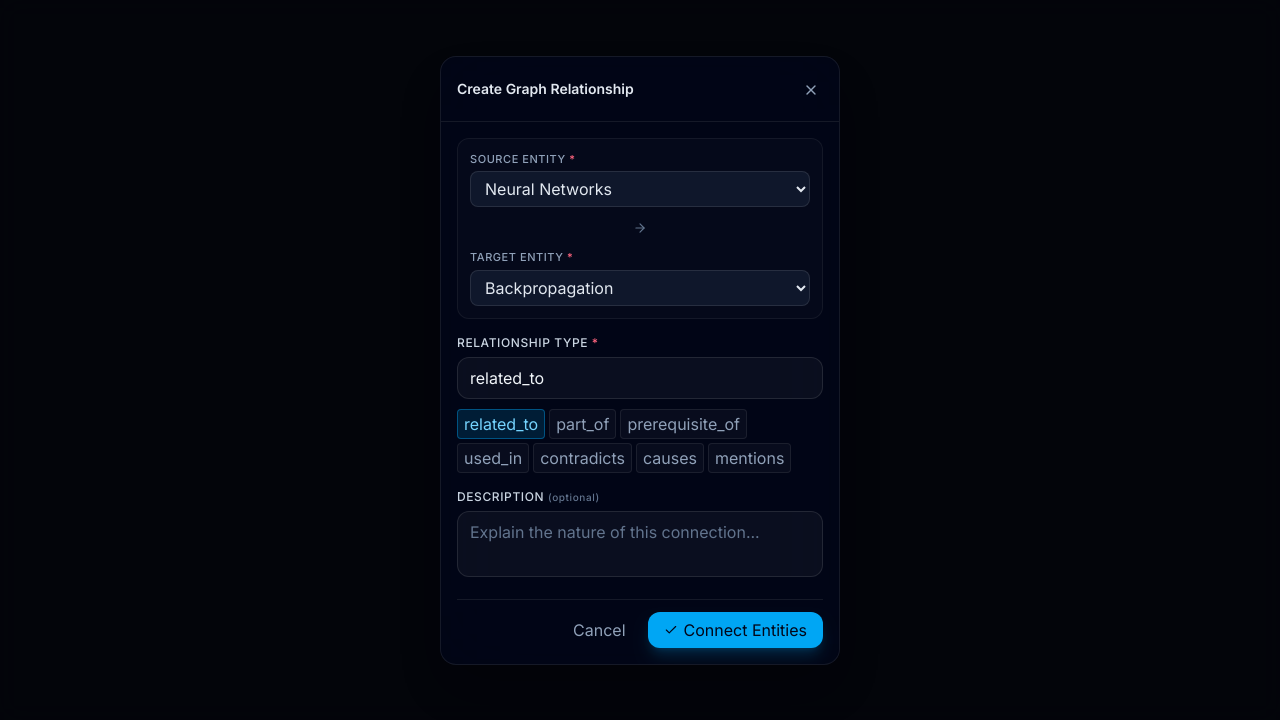
Test case: EntityEditor & RelationshipEditor & GraphEditToolbar (§5.7, §14.2) › RelationshipEditor › rejects self-relationships with validation message
The image size is (1280, 720).
Select "Neural Networks" in the dropdown with test id "rel-source-select" at [640, 189], box [470,171,810,207]
Select "Neural Networks" in the dropdown with test id "rel-target-select" at [640, 288], box [470,270,810,306]
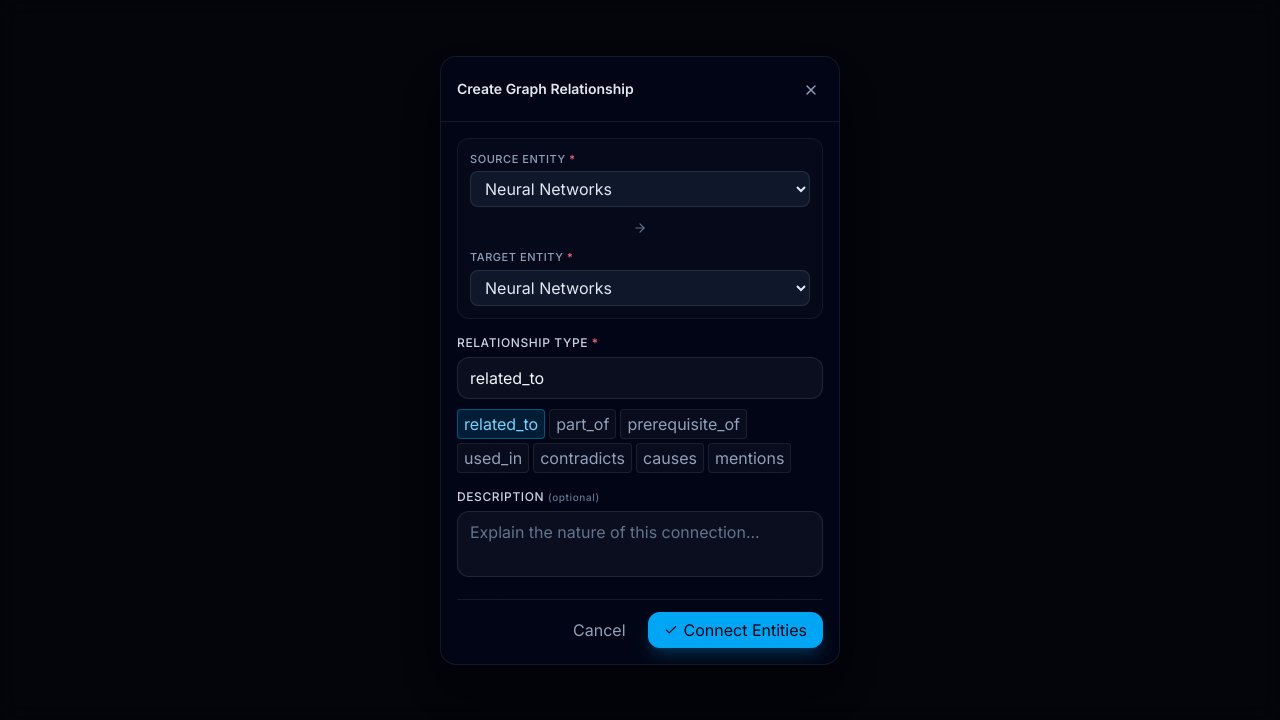
Click the button with test id "relationship-submit-btn" at [735, 630], box [648,612,823,648]
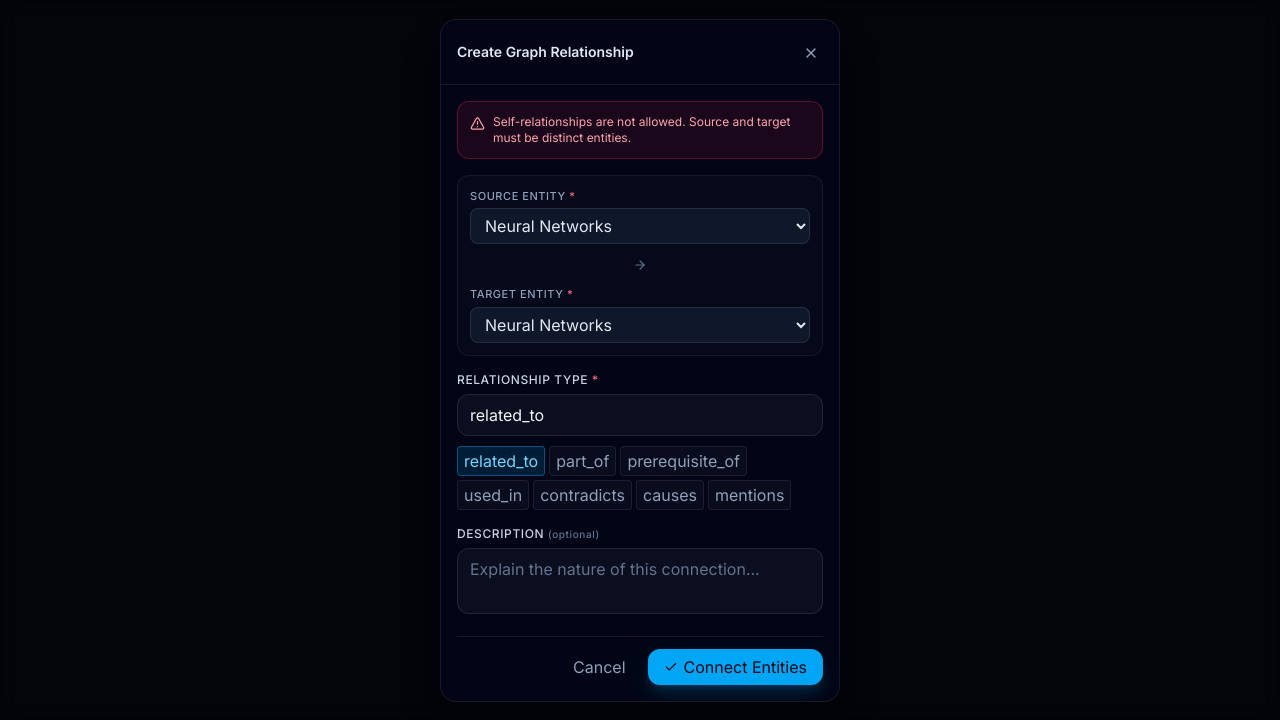
Now the element with test id "relationship-editor-error" shows "Self-relationships are not allowed", box [493,114,790,144]
